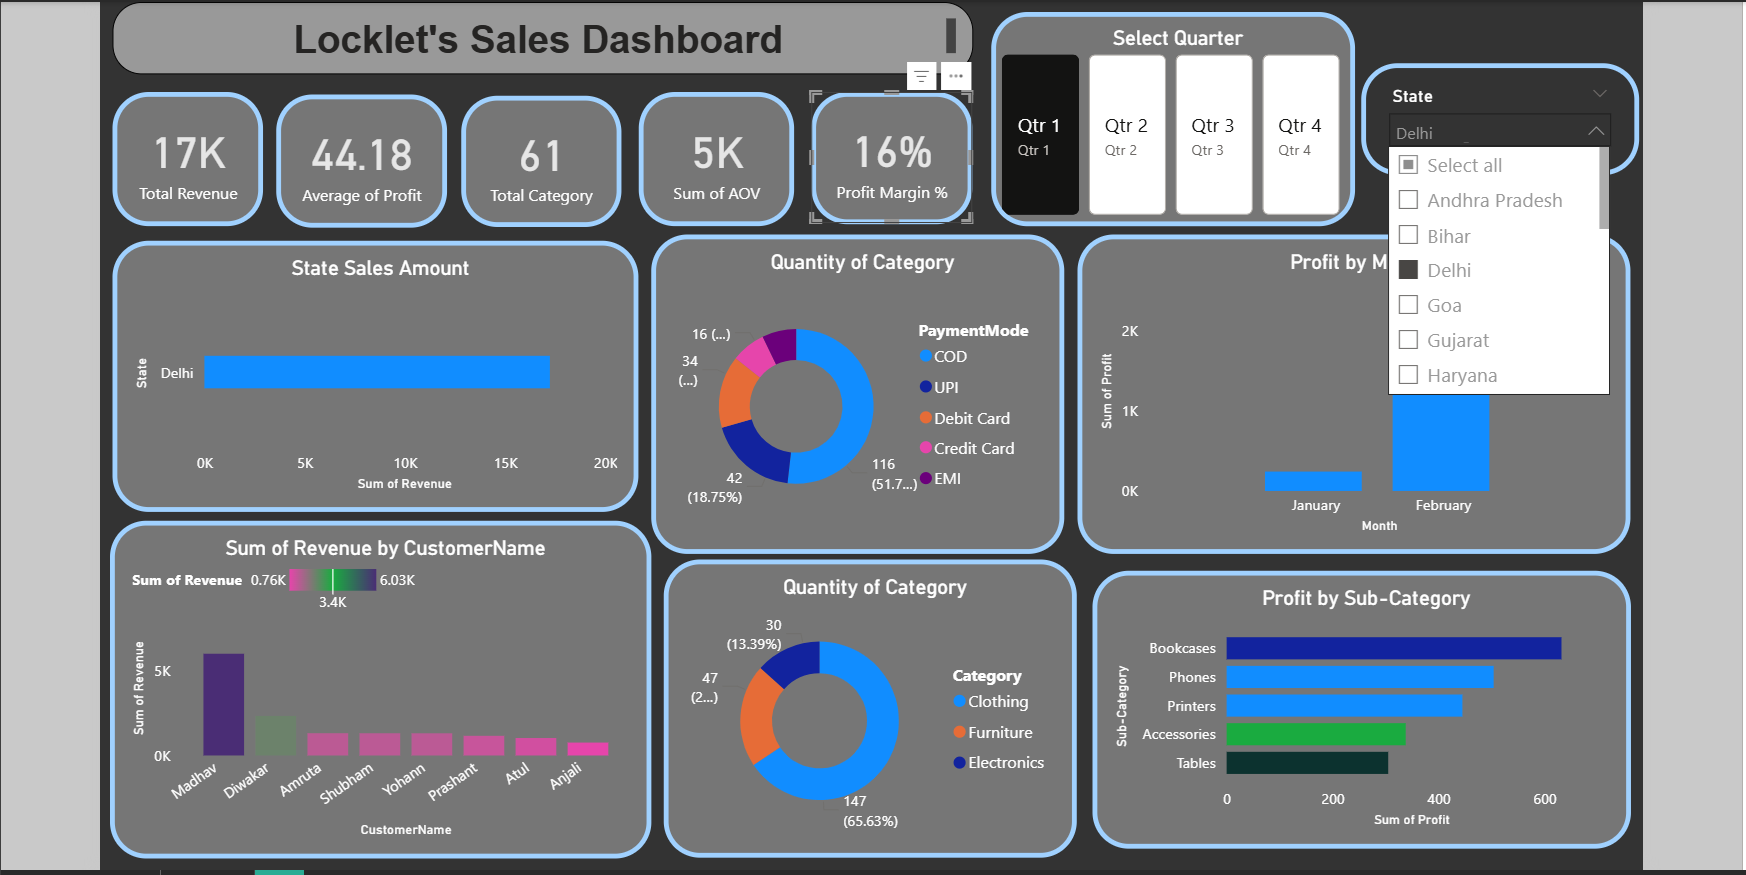

What the dashboard file says about the page in this screenshot:
{"tool":"powerbi","page":{"name":"Page 1","canvas":[1280,720],"ordinal":0},"visuals":[{"type":"textbox","box":[10,0,713.8,60],"z":0},{"type":"donutChart","title":"Quantity of Category","fields":{"Category":["Details.Category"],"Y":["Sum(Details.Quantity)"]},"box":[467.5,462.5,342.5,247.5],"z":1000},{"type":"clusteredColumnChart","title":"Profit by Month","fields":{"Y":["Sum(Details.Profit)"],"Category":["Orders.Order Date.Variation.Date Hierarchy.Month"]},"box":[810,192.5,458.8,265],"z":2000},{"type":"barChart","title":"Profit by Sub-Category","fields":{"Category":["Details.Sub-Category"],"Y":["Sum(Details.Profit)"]},"box":[822.5,471.2,446.2,230],"z":3000},{"type":"donutChart","title":"Quantity of Category","fields":{"Y":["Sum(Details.Quantity)"],"Category":["Details.PaymentMode"]},"box":[457.5,192.5,342.5,265],"z":4000},{"type":"card","fields":{"Values":["Sum(Details.Amount)"]},"box":[10,75,125,111.2],"z":5000},{"type":"card","fields":{"Values":["Avg(Details.Profit)"]},"box":[146.2,76.2,141.2,110],"z":6000},{"type":"card","fields":{"Values":["CountNonNull(Details.Category)"]},"box":[300,77.5,132.5,108.8],"z":7000},{"type":"card","fields":{"Values":["Sum(Details.AOV)"]},"box":[446.2,75,128.8,111.2],"z":8000},{"type":"barChart","title":"State Sales Amount","fields":{"Category":["Orders.State"],"Y":["Sum(Details.Amount)"]},"box":[10,197.5,436.2,225],"z":9000},{"type":"columnChart","fields":{"Category":["Orders.CustomerName"],"Y":["Sum(Details.Amount)"]},"box":[8.8,430,448.8,280],"z":10000},{"type":"advancedSlicerVisual","title":"Select Quarter","fields":{"Values":["Orders.Order Date.Variation.Date Hierarchy.Quarter"],"Label":["Min(Orders.Order Date.Variation.Date Hierarchy.Quarter)"]},"box":[738.5,8.4,301.4,177.7],"z":11000},{"type":"slicer","fields":{"Values":["Orders.State"]},"box":[1045.4,51.2,230.2,93],"z":12000},{"type":"card","fields":{"Values":["Details.Profit Margin %"]},"box":[589.6,74.4,133.3,109.3],"z":13000}]}

Visuals, with their boxes in screenshot pixels (x1, y1, x2, y2):
textbox: (117,0,970,72)
"Quantity of Category" donutChart: (664,553,1073,849)
"Profit by Month" clusteredColumnChart: (1073,230,1622,547)
"Profit by Sub-Category" barChart: (1088,563,1622,838)
"Quantity of Category" donutChart: (652,230,1061,547)
card - Sum(Details.Amount): (117,90,266,223)
card - Avg(Details.Profit): (279,91,448,223)
card - CountNonNull(Details.Category): (463,93,622,223)
card - Sum(Details.AOV): (638,90,792,223)
"State Sales Amount" barChart: (117,236,638,505)
columnChart - Orders.CustomerName x Sum(Details.Amount): (115,514,652,849)
"Select Quarter" advancedSlicerVisual: (988,10,1348,223)
slicer - Orders.State: (1355,61,1630,172)
card - Details.Profit Margin %: (810,89,969,220)
